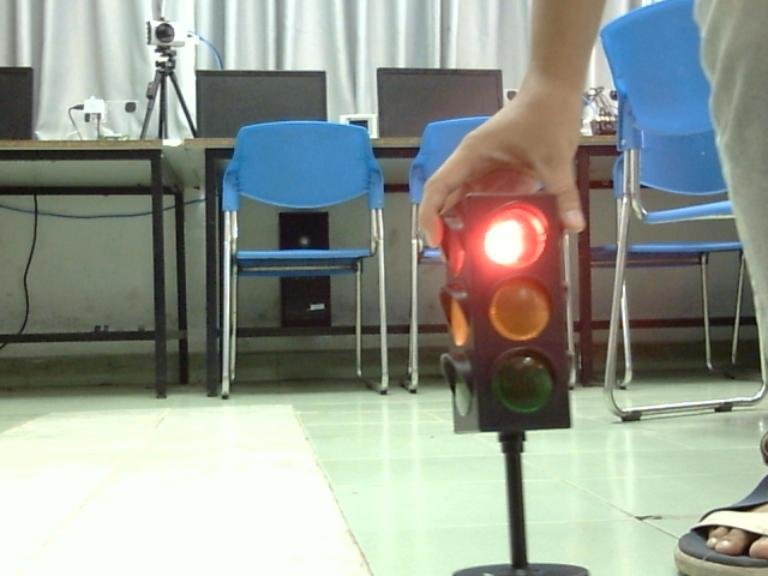red: (476, 200, 554, 274)
